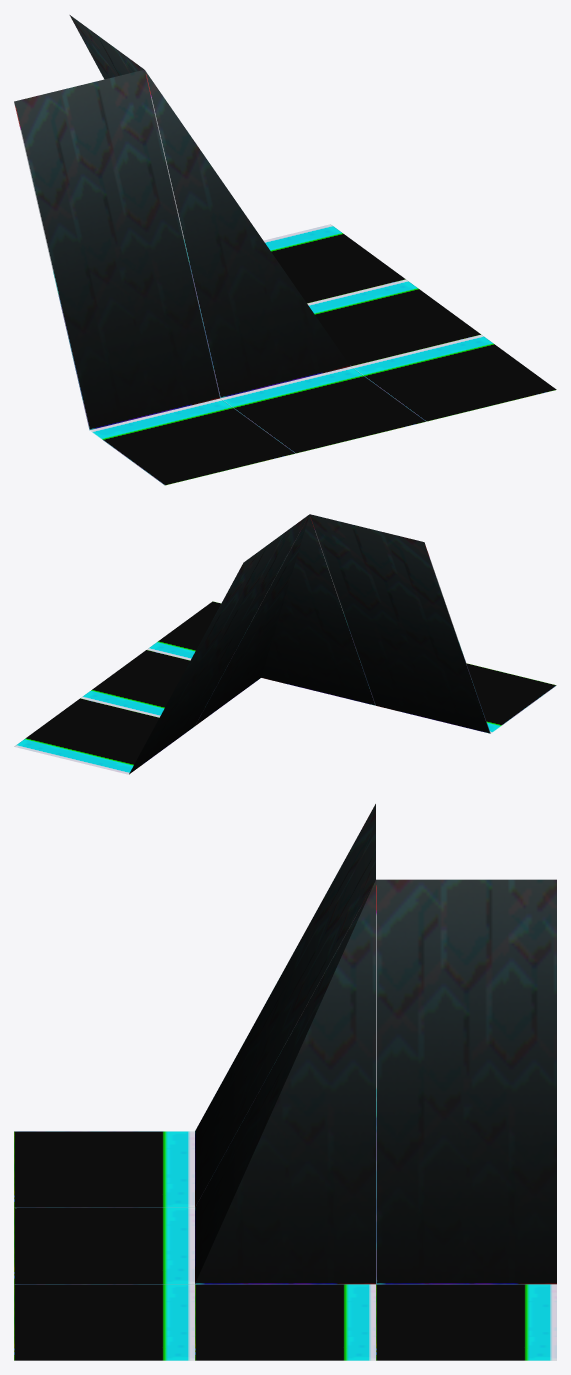
Rendered from arch_winter_wallMiniBottom_cornerOut.FBX.
3 renders of one model, top to bottom at view 1: azimuth 30°, elevation 25°; view 2: azimuth 150°, elevation 25°; view 3: azimuth 270°, elevation 25°, orthographic. The views are drawn at different scales.
Parts seen in each view (by area): view 1: arch_winter_wallMiniBottom_cornerOut; view 2: arch_winter_wallMiniBottom_cornerOut; view 3: arch_winter_wallMiniBottom_cornerOut.
Boxes of the visible parts, <box> form: arch_winter_wallMiniBottom_cornerOut: <box>14,15,556,485</box>; arch_winter_wallMiniBottom_cornerOut: <box>14,514,556,774</box>; arch_winter_wallMiniBottom_cornerOut: <box>14,804,556,1360</box>.
Size of the model in its own units: 6 by 4 by 6.
1 material, 1 textured.
